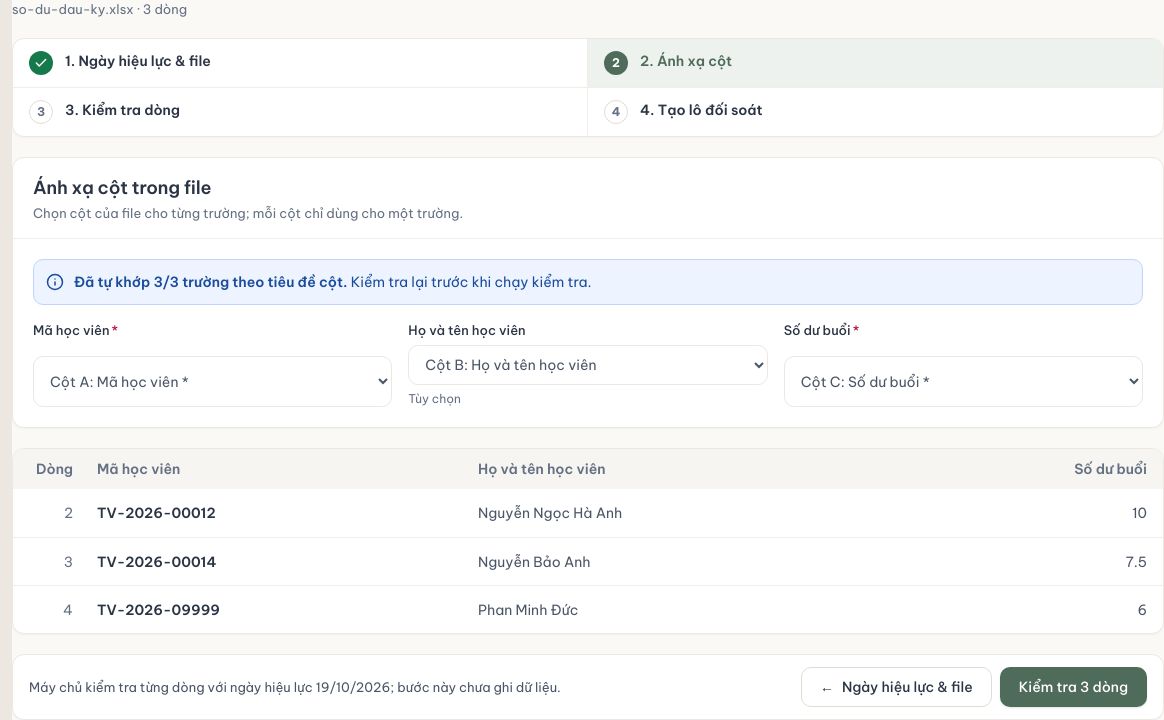
Test case: SessionBalanceImportPage wizard › mapping: drops a check failure that lands after the mapping changed
(page scrolled)
Step 1. Click the button "Kiểm tra 3 dòng" → (1073,687), box [1000,667,1147,707]
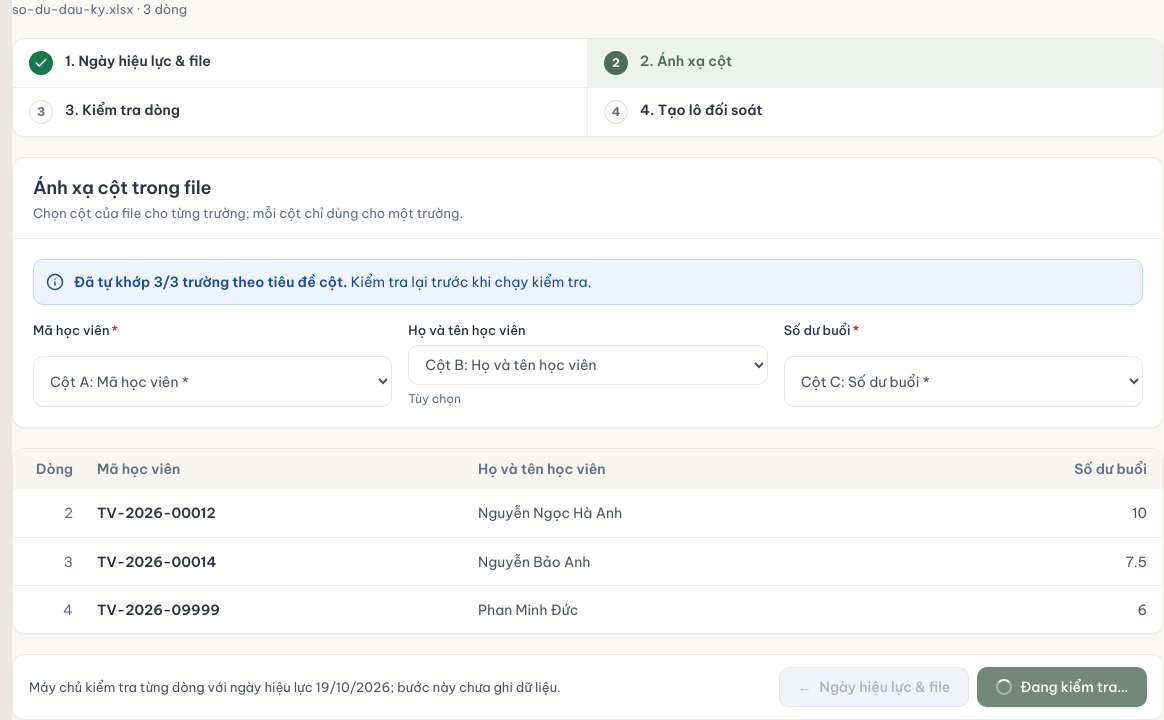
Step 2. Select "Không dùng cột nào" in the dropdown labelled "Họ và tên học viên" → (588,365), box [408,345,768,385]
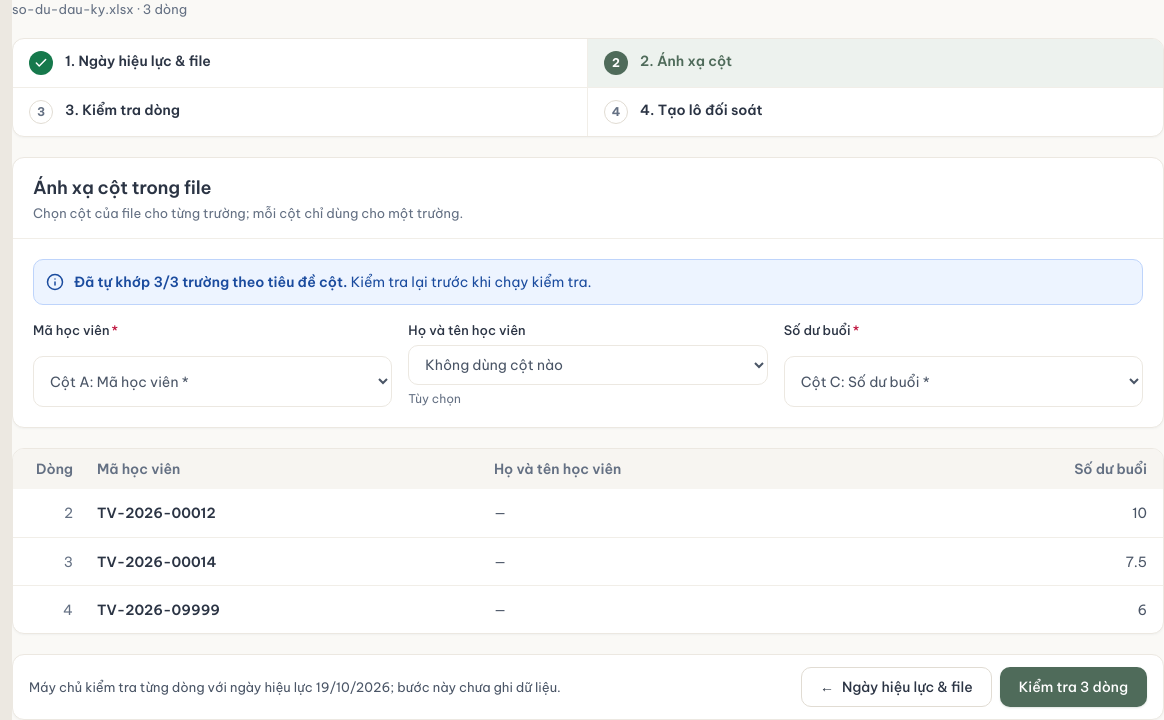
expect the button "Kiểm tra 3 dòng" is enabled: met, box [1000,667,1147,707]
